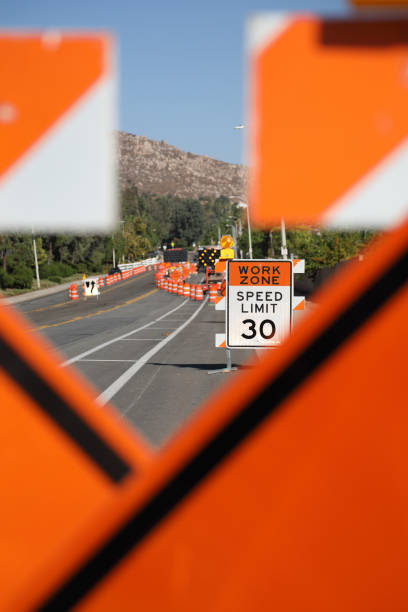SpeedLimitSign: (224, 284, 293, 348)
